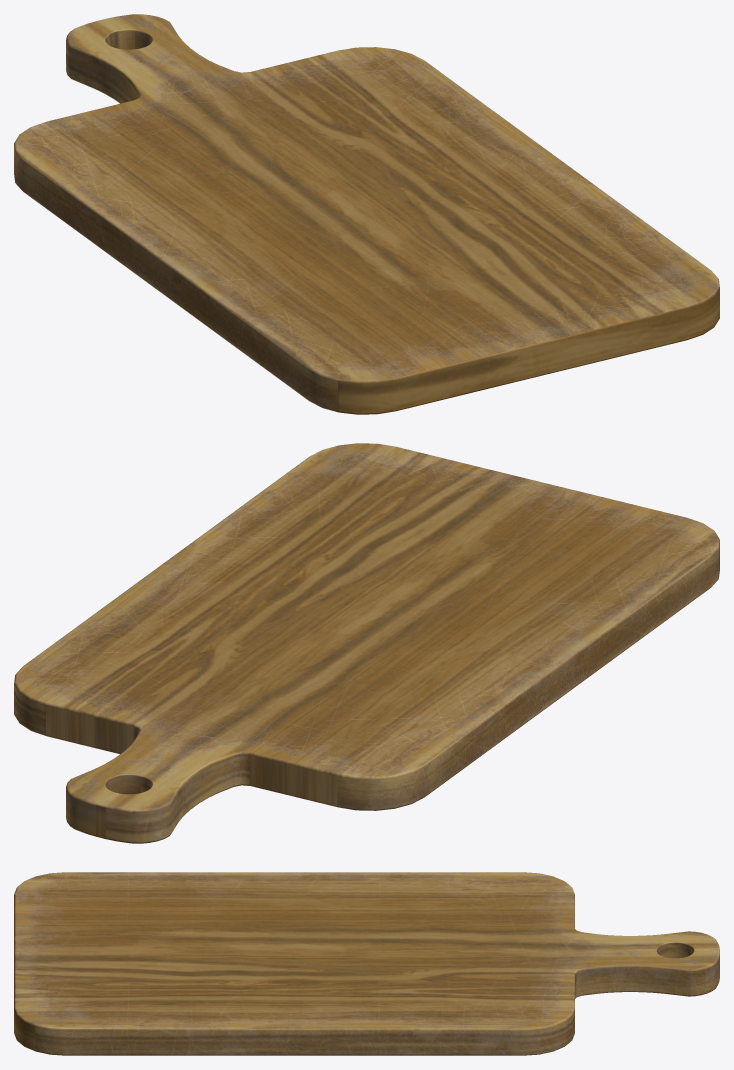
The model's file is cutting_board_asset.glb.
The picture shows the model from 3 angles, top to bottom: view 1: azimuth 30°, elevation 25°; view 2: azimuth 150°, elevation 25°; view 3: azimuth 270°, elevation 25°; orthographic projection. The views are drawn at different scales.
Visible parts, largest first — view 1: Object_2; view 2: Object_2; view 3: Object_2.
Part boxes in pixels (x1,y1,x2,y2): Object_2: (14, 14, 719, 414); Object_2: (14, 443, 719, 843); Object_2: (14, 872, 719, 1055).
Size of the model in its own units: 0.1852 by 0.0152 by 0.3512.
1 material, 1 textured.
